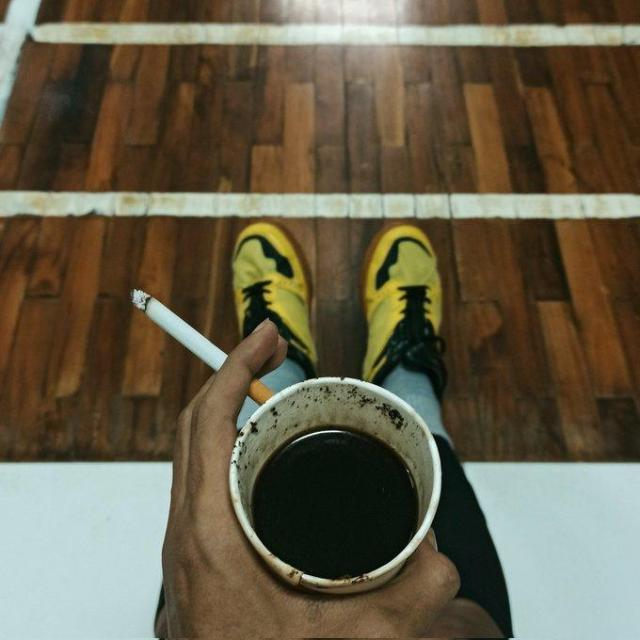rokok: (119, 276, 277, 410)
